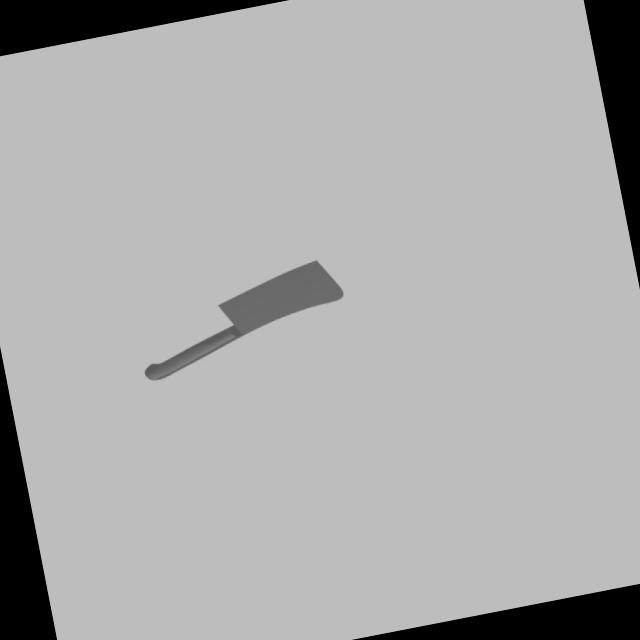knife: (138, 323, 248, 382)
